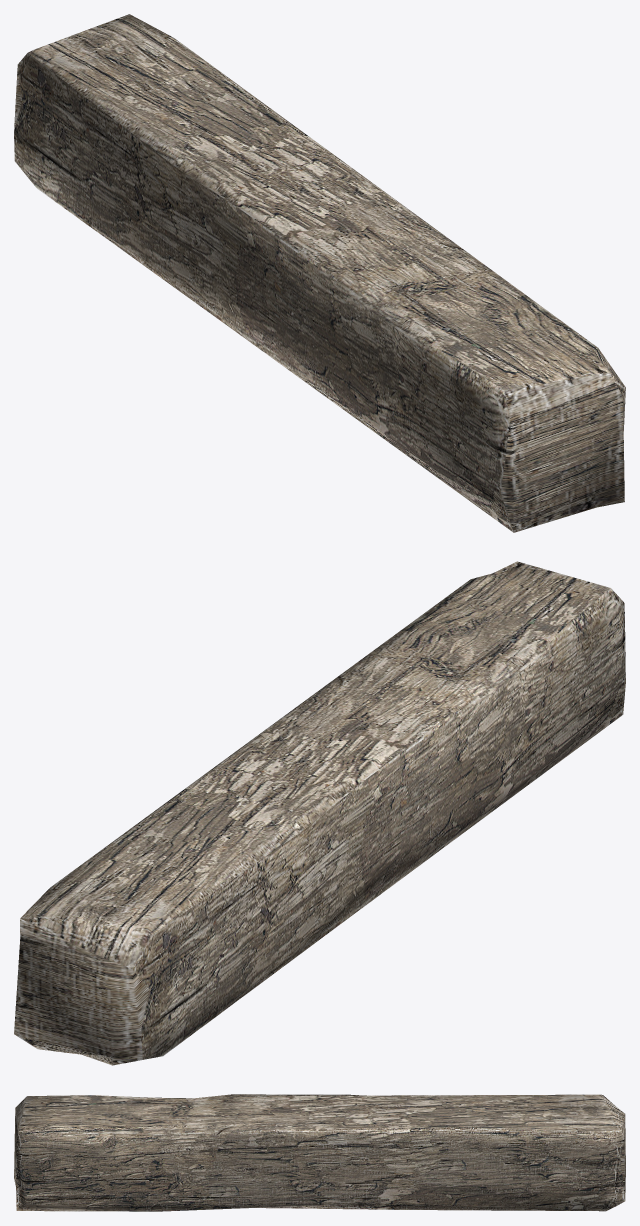
File: SM_Cave_Wood_Beam.FBX
3 views of the same model, one above another, from view 1: azimuth 30°, elevation 25°; view 2: azimuth 150°, elevation 25°; view 3: azimuth 270°, elevation 25° (orthographic). The views are drawn at different scales.
Parts seen in each view (by area): view 1: SM_Cave_Wood_Beam; view 2: SM_Cave_Wood_Beam; view 3: SM_Cave_Wood_Beam.
Boxes of the visible parts, x1,y1,x2,y2 form: SM_Cave_Wood_Beam: (14,14,625,532); SM_Cave_Wood_Beam: (14,561,625,1065); SM_Cave_Wood_Beam: (14,1094,625,1211).
Size of the model in its own units: 40.53 by 272 by 41.13.
